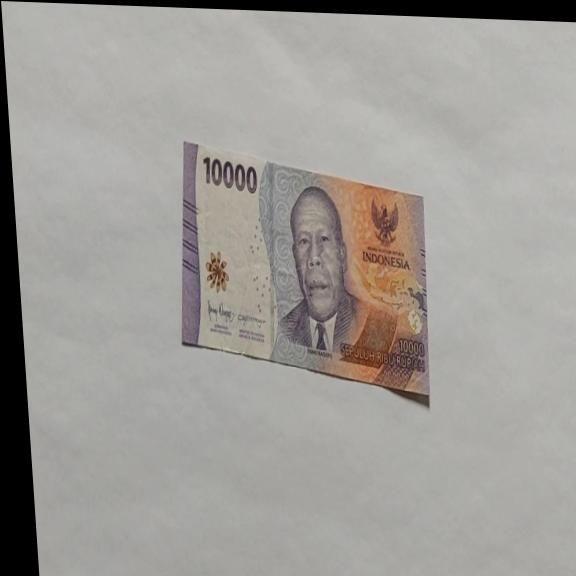Kertas: (167, 139, 437, 410)
